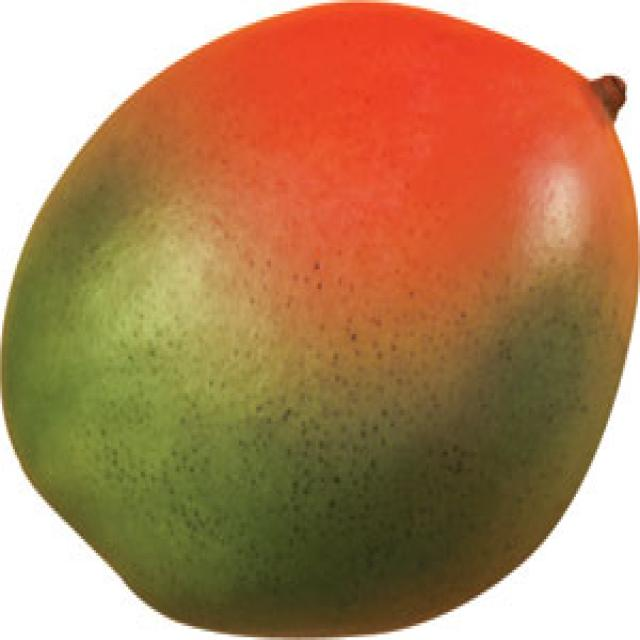mango: (4, 3, 627, 637)
